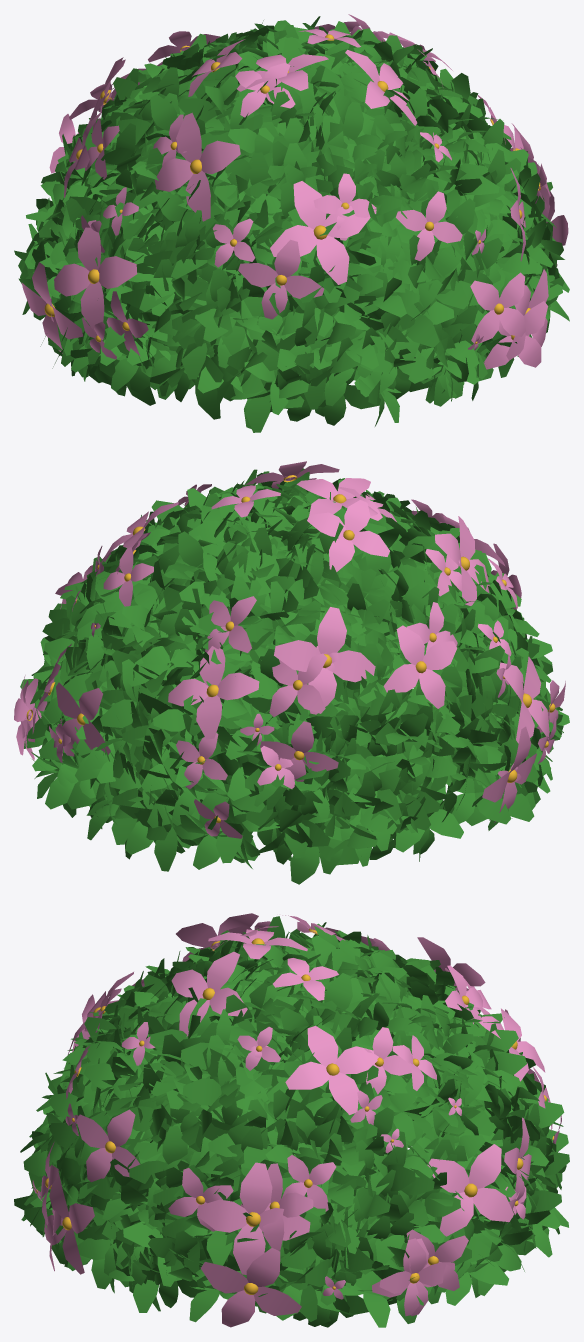
Rendered from bush_flower.fbx.
3 views of the same model, one above another, from view 1: azimuth 30°, elevation 25°; view 2: azimuth 150°, elevation 25°; view 3: azimuth 270°, elevation 25° (orthographic).
Visible parts, largest first — view 1: bush_flower; view 2: bush_flower; view 3: bush_flower.
Boxes of the visible parts, x1=… form: bush_flower: x1=14, y1=14, x2=569, y2=432; bush_flower: x1=14, y1=461, x2=569, y2=884; bush_flower: x1=14, y1=913, x2=569, y2=1327.
Bounding box in the file's own units: 2.17 × 2.17 × 1.26.
